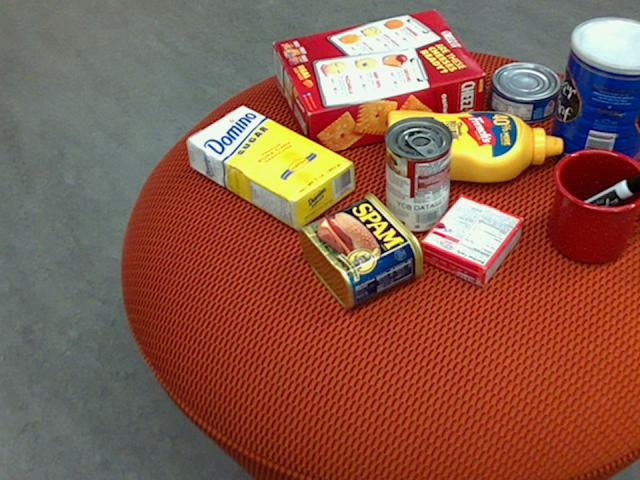cracker_box: (272, 9, 484, 155)
gelatin_box: (418, 195, 524, 288)
large_marker: (551, 169, 639, 231)
master_chef_can: (547, 17, 639, 176)
mug: (548, 147, 639, 263)
mustard_bottle: (385, 110, 561, 182)
potted_meat_can: (297, 191, 423, 308)
sugar_box: (185, 104, 353, 231)
tomato_soup_can: (383, 114, 451, 231)
tuna_fish_can: (485, 62, 559, 121)
